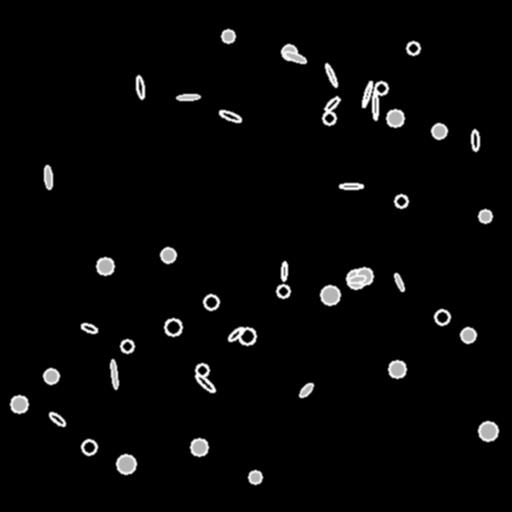pseudomonas: (193, 372, 217, 394), (218, 109, 242, 123), (324, 63, 338, 87), (323, 95, 341, 113), (227, 325, 245, 343), (361, 81, 373, 107), (284, 50, 306, 64), (48, 411, 66, 427), (298, 382, 314, 398), (393, 272, 405, 292), (110, 359, 118, 389), (135, 76, 145, 98), (80, 322, 98, 334), (44, 165, 52, 189), (372, 91, 378, 119), (471, 130, 479, 150), (348, 275, 366, 283), (176, 94, 200, 100), (281, 261, 287, 281), (340, 183, 362, 188)
synechocystis: (321, 286, 339, 304), (347, 270, 365, 288), (479, 422, 497, 440), (117, 455, 135, 473), (11, 396, 27, 412), (387, 110, 403, 126), (165, 319, 181, 335), (97, 258, 113, 274), (239, 328, 255, 344), (191, 439, 207, 455), (356, 268, 372, 284), (389, 361, 405, 377), (435, 310, 449, 324), (44, 369, 58, 383), (82, 440, 96, 454), (204, 295, 218, 309), (461, 328, 475, 342), (432, 124, 446, 138), (161, 248, 175, 262), (282, 45, 296, 59), (323, 112, 335, 124), (375, 82, 387, 94), (479, 210, 491, 222), (395, 195, 407, 207), (121, 340, 133, 352), (222, 30, 234, 42), (277, 285, 289, 297), (249, 471, 261, 483), (196, 364, 208, 376), (407, 42, 419, 54)
